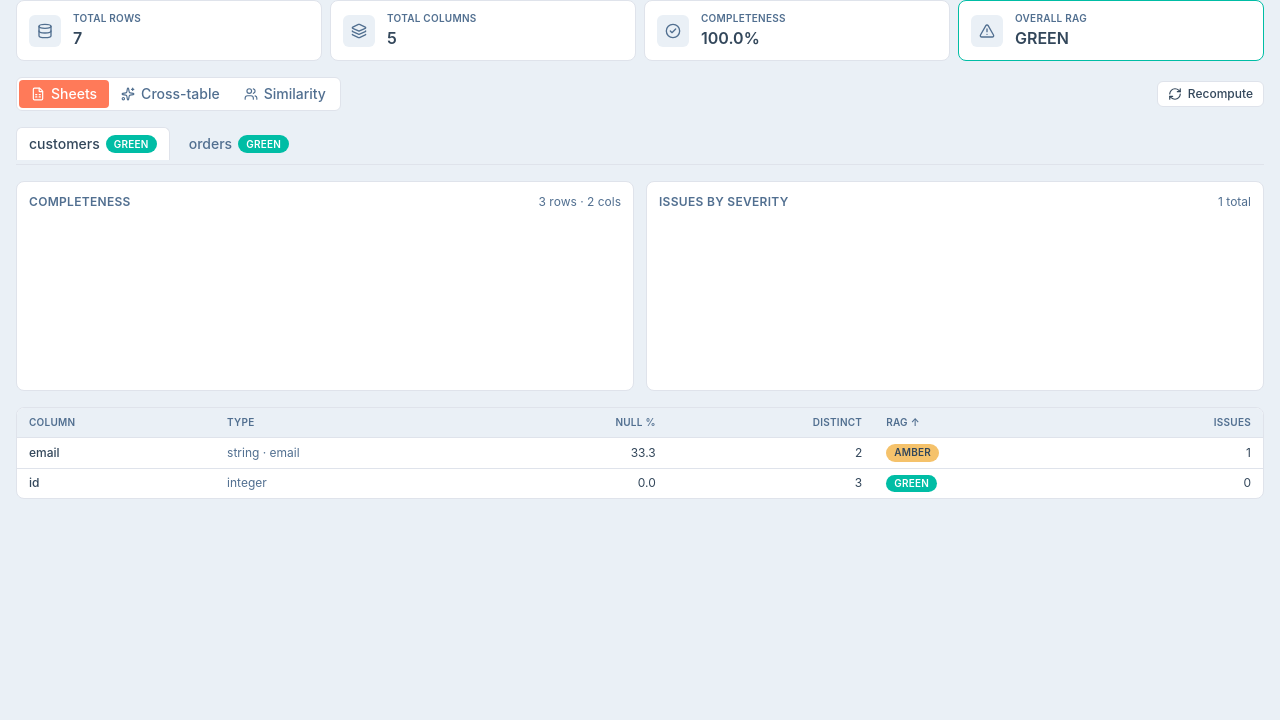
Test: DataQualityDashboard › switches to the Similarity view and renders the new tab
Expected: the text "Total rows" is shown, [73,11,141,26]
Step 1. Click the button "Similarity" → (285, 94), box [232,80,338,108]
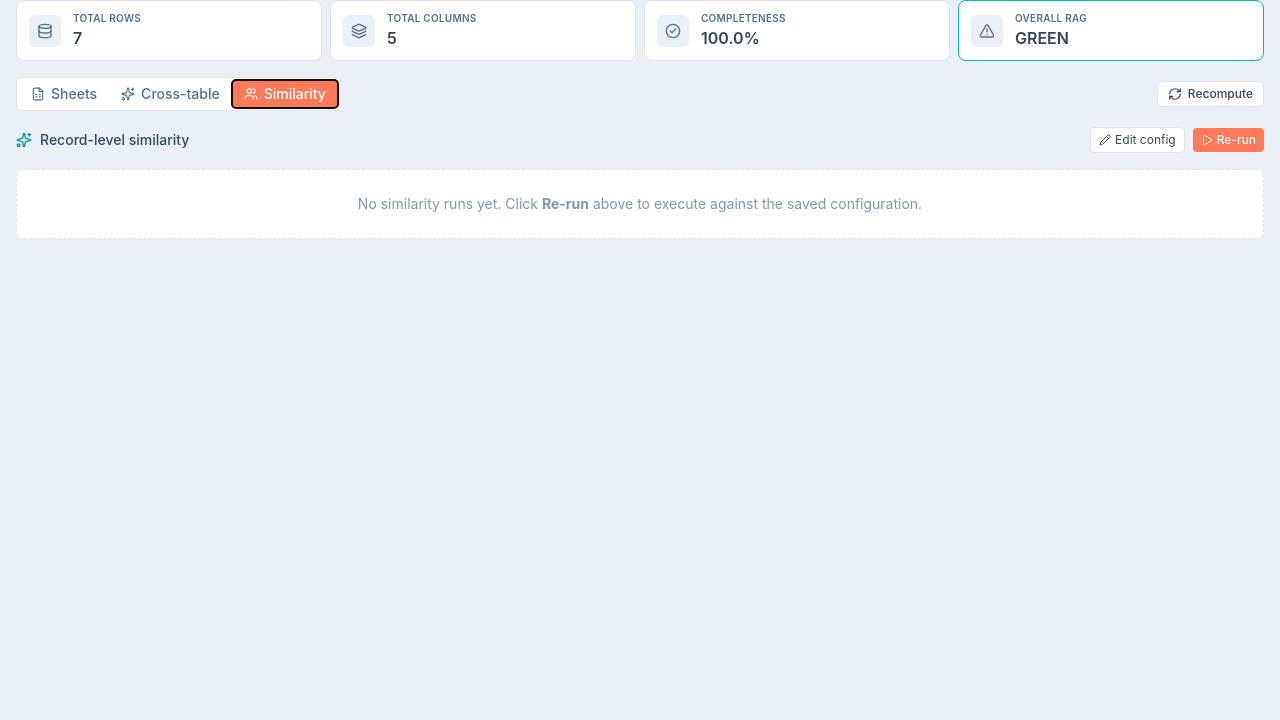
Result: the text "No similarity runs yet" is shown at [358,195,542,212]
